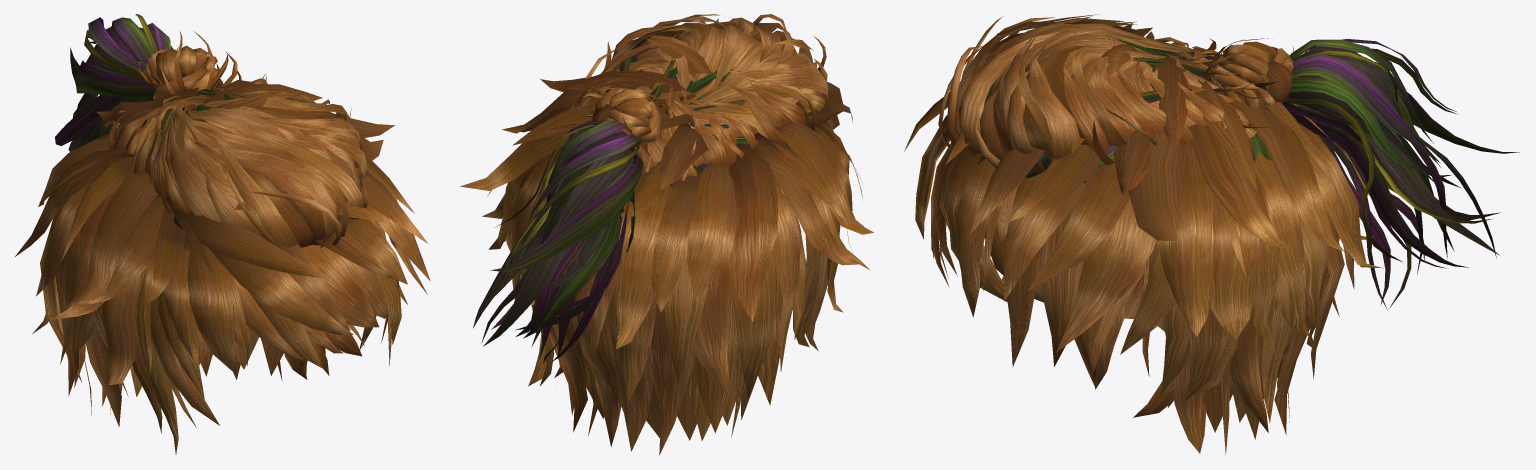
Rendered from Hairs.fbx.
The picture shows the model from 3 angles, left to right: view 1: azimuth 30°, elevation 25°; view 2: azimuth 150°, elevation 25°; view 3: azimuth 270°, elevation 25°; orthographic projection. The views are drawn at different scales.
Visible parts, largest first — view 1: hAİR, HAİR, hair.009, HAİR.002; view 2: hAİR, hair.009, HAİR, HAİR.002; view 3: hAİR, HAİR, hair.009, HAİR.002.
Boxes of the visible parts, <box> form: hAİR: <box>15,80,430,454</box>; HAİR: <box>109,75,368,250</box>; hair.009: <box>55,14,356,201</box>; HAİR.002: <box>139,30,366,207</box>; hAİR: <box>460,33,873,455</box>; hair.009: <box>473,55,799,363</box>; HAİR: <box>568,14,828,186</box>; HAİR.002: <box>548,81,674,184</box>; hAİR: <box>904,35,1383,454</box>; HAİR: <box>938,14,1256,173</box>; hair.009: <box>984,37,1519,309</box>; HAİR.002: <box>1202,38,1296,128</box>.
Size of the model in its own units: 24.97 by 23.74 by 34.29.
